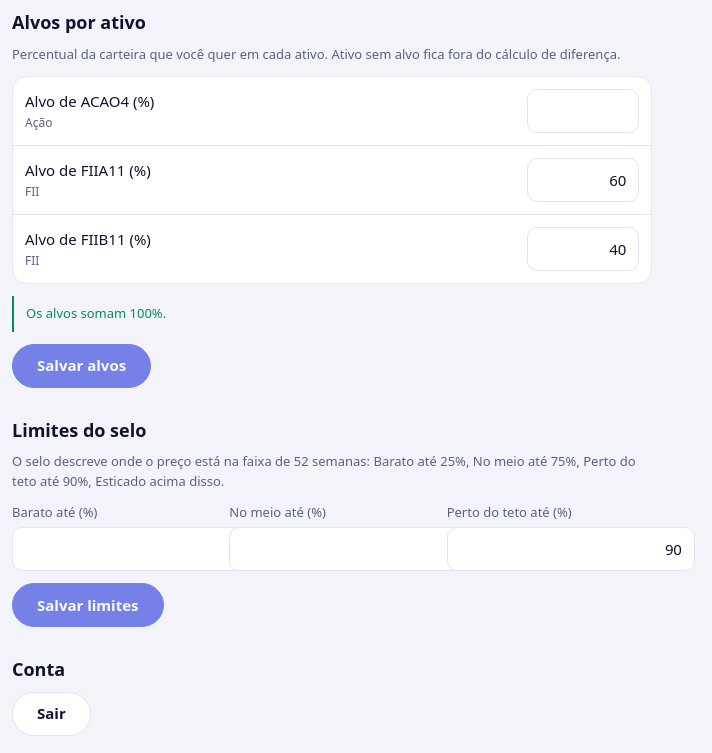
Test: Configurações: alvos › a soma é ao vivo e usa vírgula nos decimais (100,5%)
The width and height of the screenshot is (712, 753).
Replace the text in the field labelled "Alvo de FIIA11 (%)" with "60,5": (583, 180) [527,158,639,202]
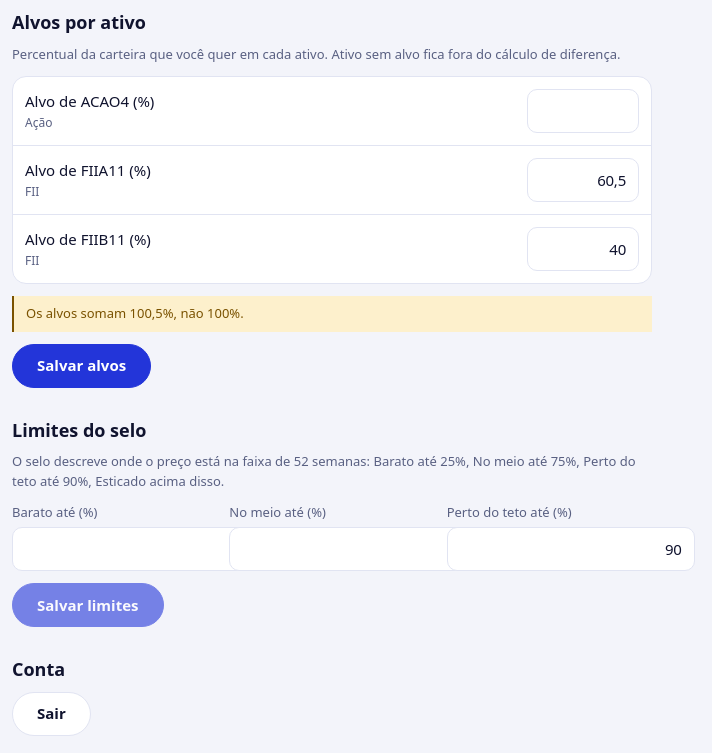
Check: the text "Os alvos somam 100,5%, não 100%." is shown, box [12,296,652,332]
Replace the text in the field labelled "Alvo de FIIA11 (%)" with "50": (583, 180) [527,158,639,202]
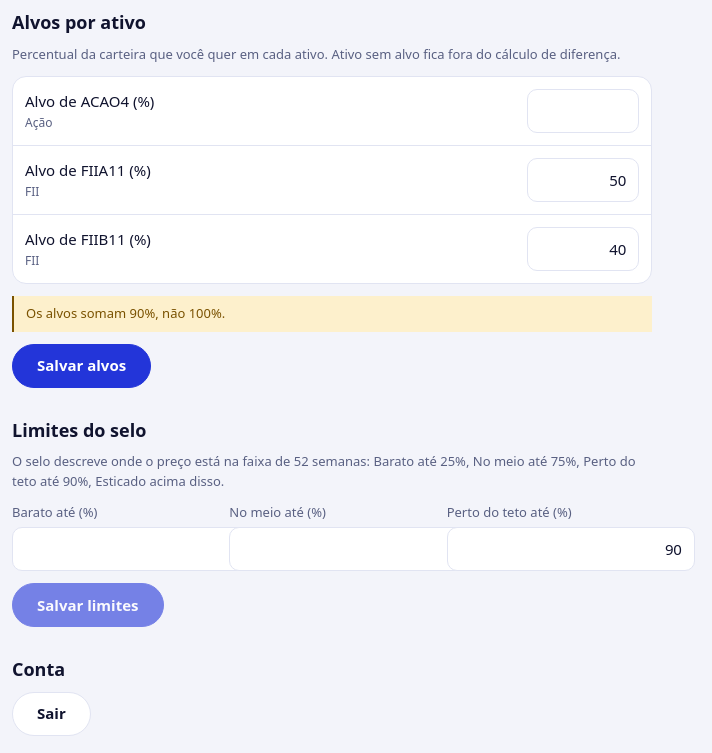
Check: the text "Os alvos somam 90%, não 100%." is shown, box [12,296,652,332]
